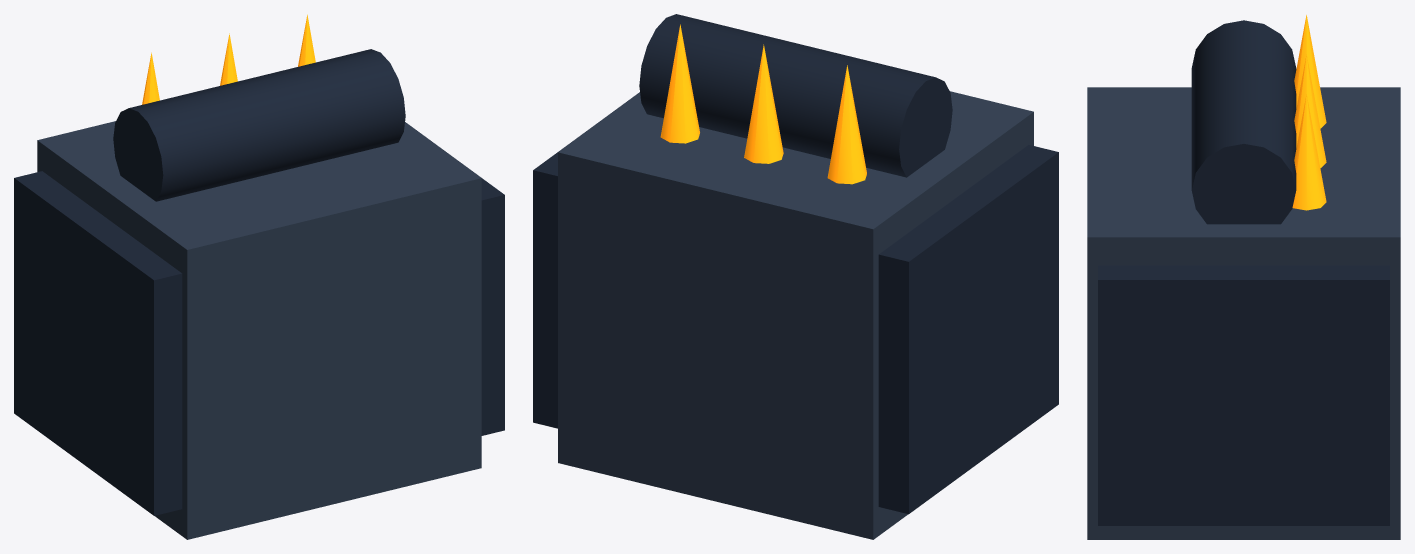
File: transformer.glb
3 views of the same model, side by side, from view 1: azimuth 30°, elevation 25°; view 2: azimuth 150°, elevation 25°; view 3: azimuth 270°, elevation 25° (orthographic). The views are drawn at different scales.
Size of what is drawn, in the model's own units: 4.05 by 4.35 by 3.
